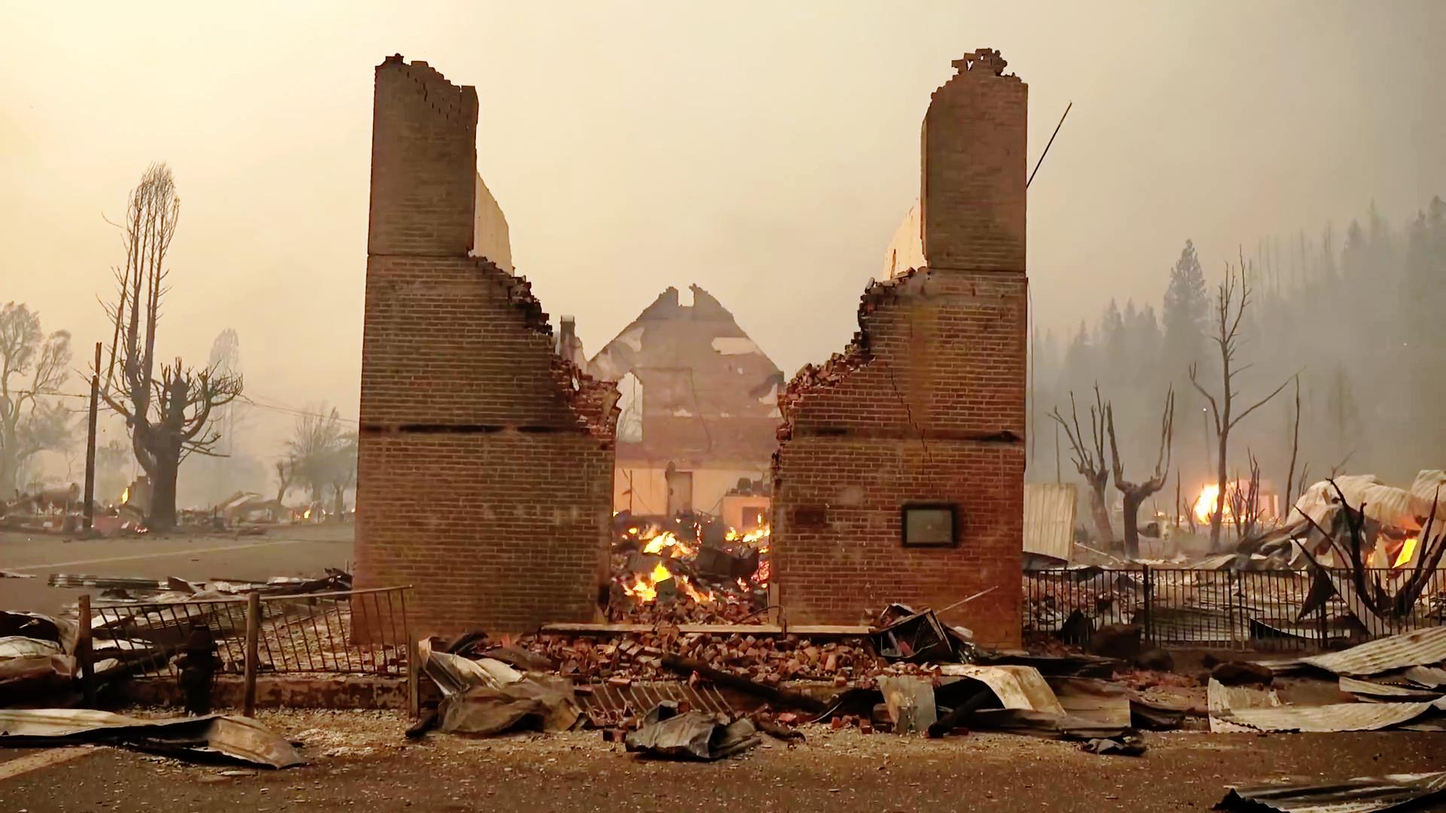smoke: (539, 20, 700, 183)
